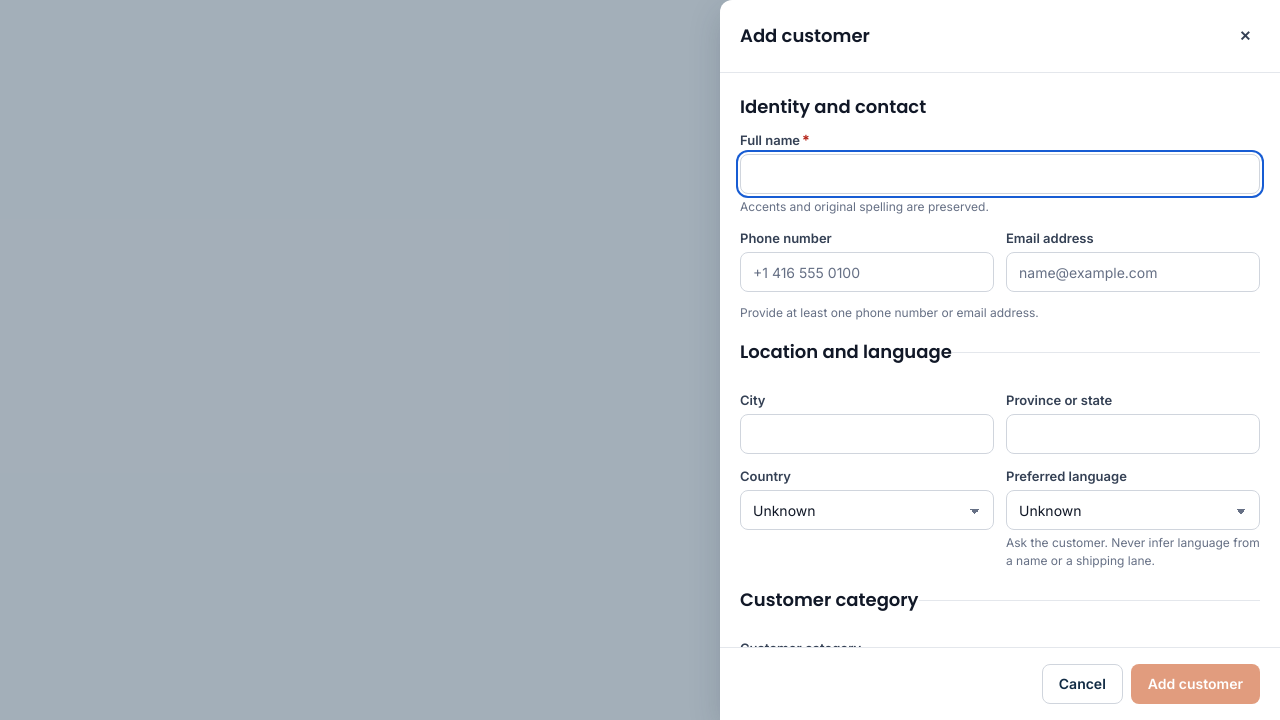
Test case: CustomerFormDrawer › surfaces duplicate candidates and blocks save until staff decide
This screenshot has width=1280, height=720.
Type "Đặng Minh Tuấn" into the field labelled "Full name" at (1000, 174), box [740,154,1260,194]
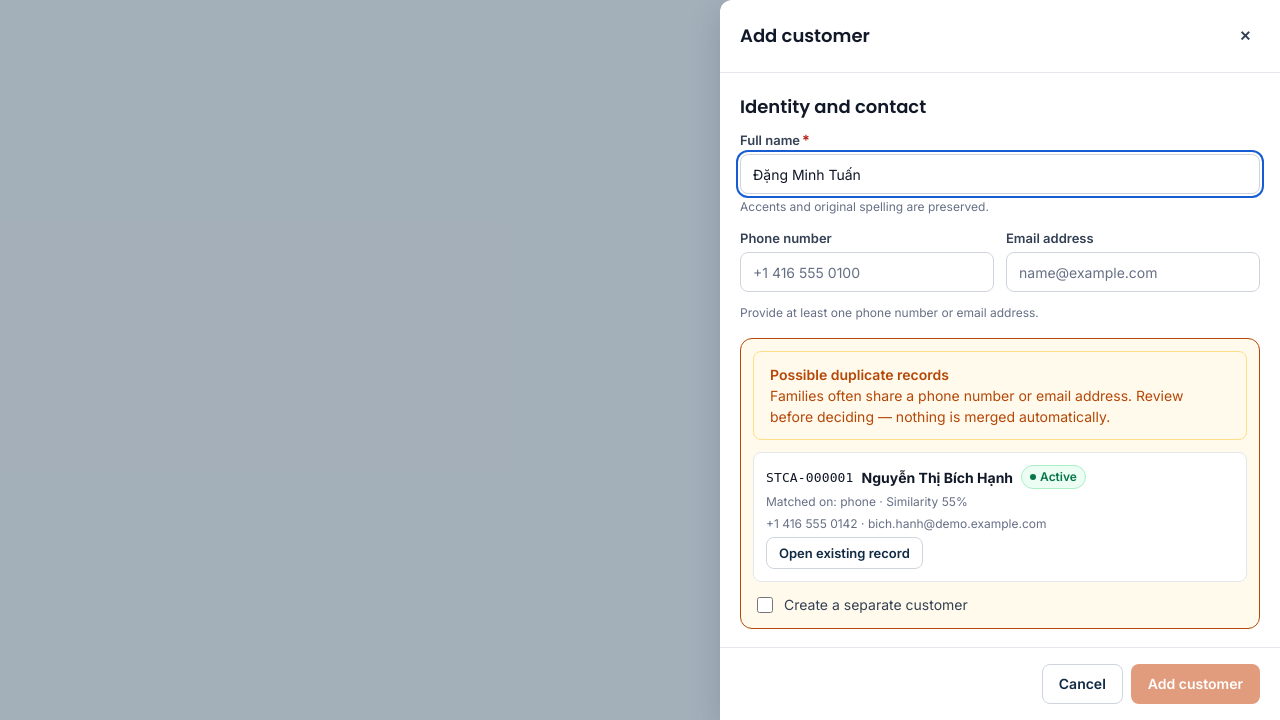
Type "+1 416 555 0142" into the field labelled "Phone number" at (867, 272), box [740,252,994,292]
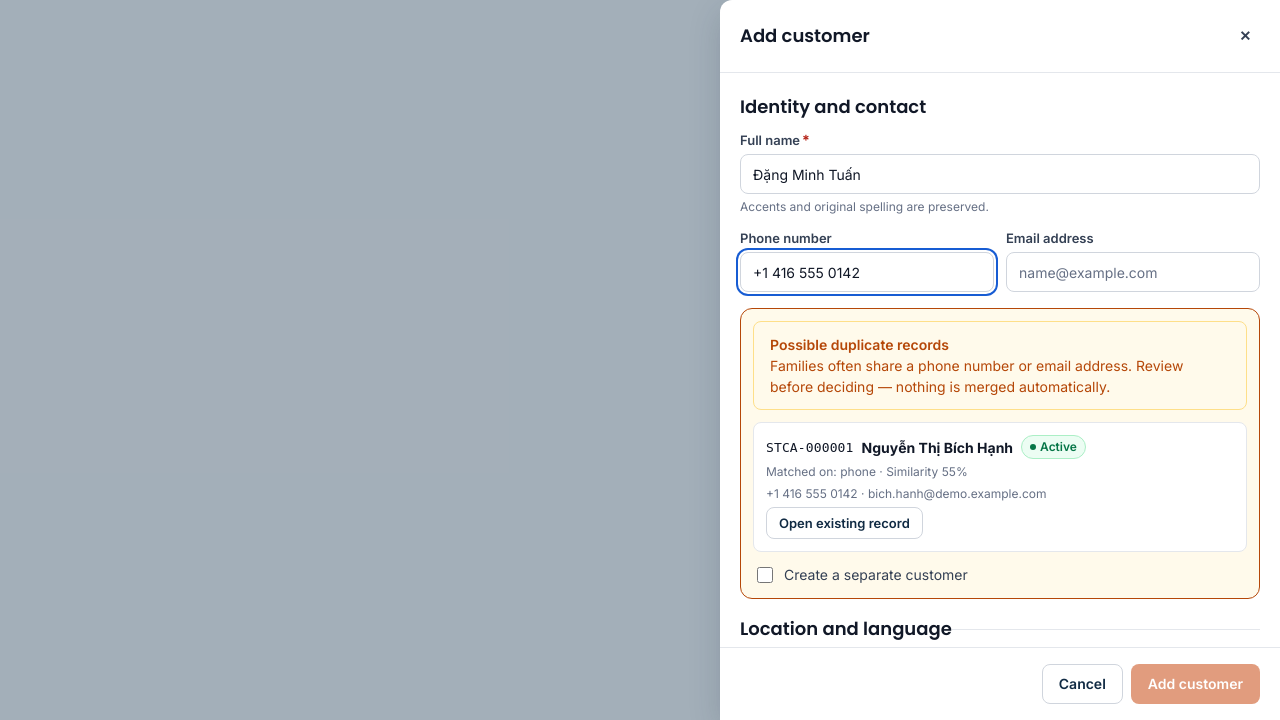
Result: the text "Possible duplicate records" is shown at [770,336,949,353]
Result: the text "nothing is merged automatically" is shown at [770,357,1183,395]
Result: the button "Open existing record" is shown at [766,507,923,539]
Click the checkbox labelled "Create a separate customer" at (765, 575), box [757,567,773,583]
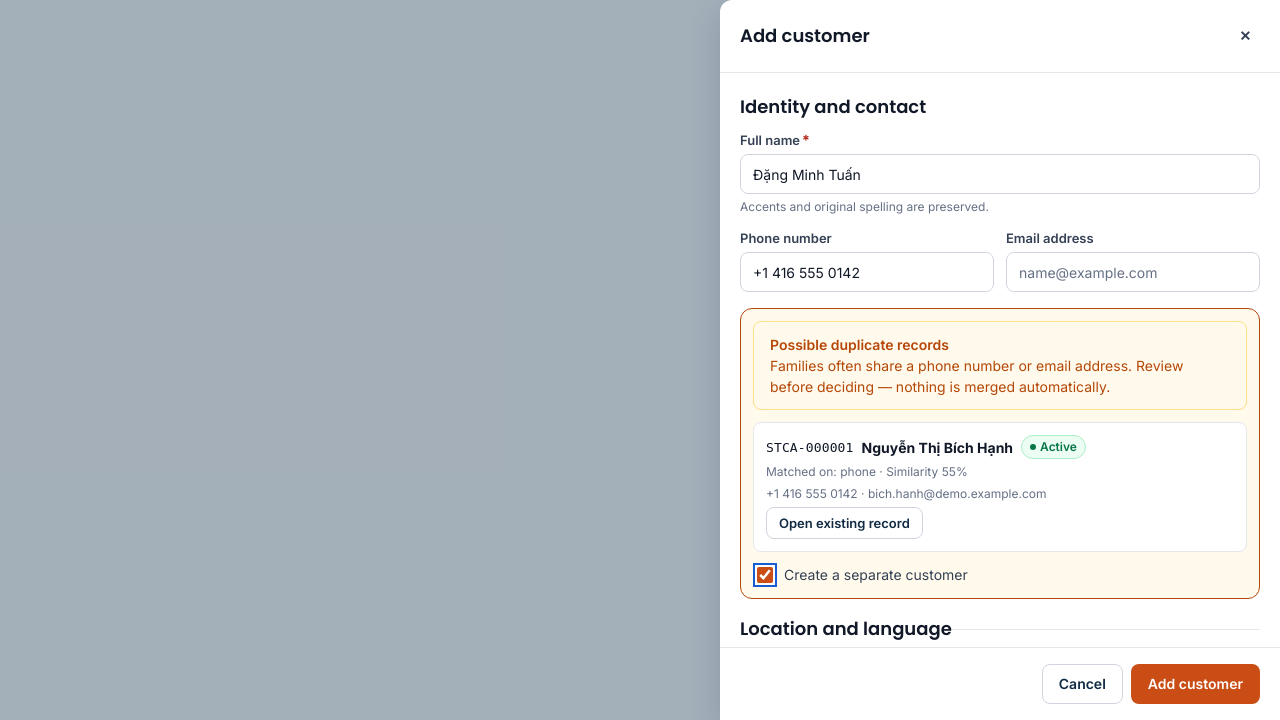
Result: the button "Add customer" is enabled at [1131,664,1260,704]
